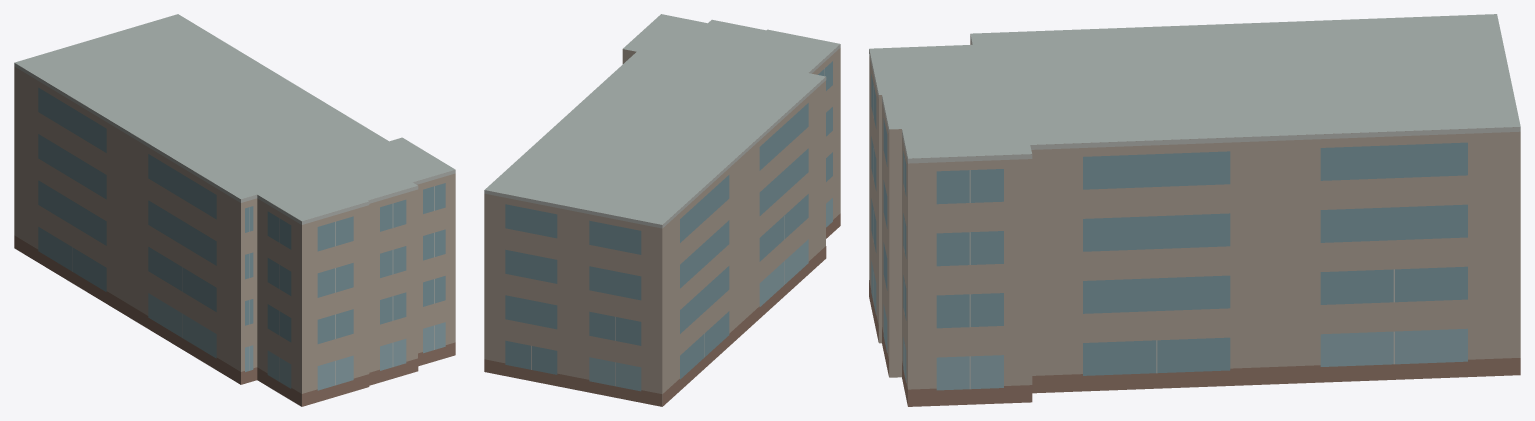
File: survey-upis-32912487.glb
3 views of the same model, side by side, from view 1: azimuth 30°, elevation 25°; view 2: azimuth 150°, elevation 25°; view 3: azimuth 270°, elevation 25° (orthographic). The views are drawn at different scales.
Parts seen in each view (by area): view 1: survey-upis-32912487.tmp; view 2: survey-upis-32912487.tmp; view 3: survey-upis-32912487.tmp.
Boxes of the visible parts, x1,y1,x2,y2 form: survey-upis-32912487.tmp: [14, 14, 455, 406]; survey-upis-32912487.tmp: [484, 14, 840, 406]; survey-upis-32912487.tmp: [869, 14, 1520, 406].
Bounding box in the file's own units: 15.37 × 12.3 × 29.27.
